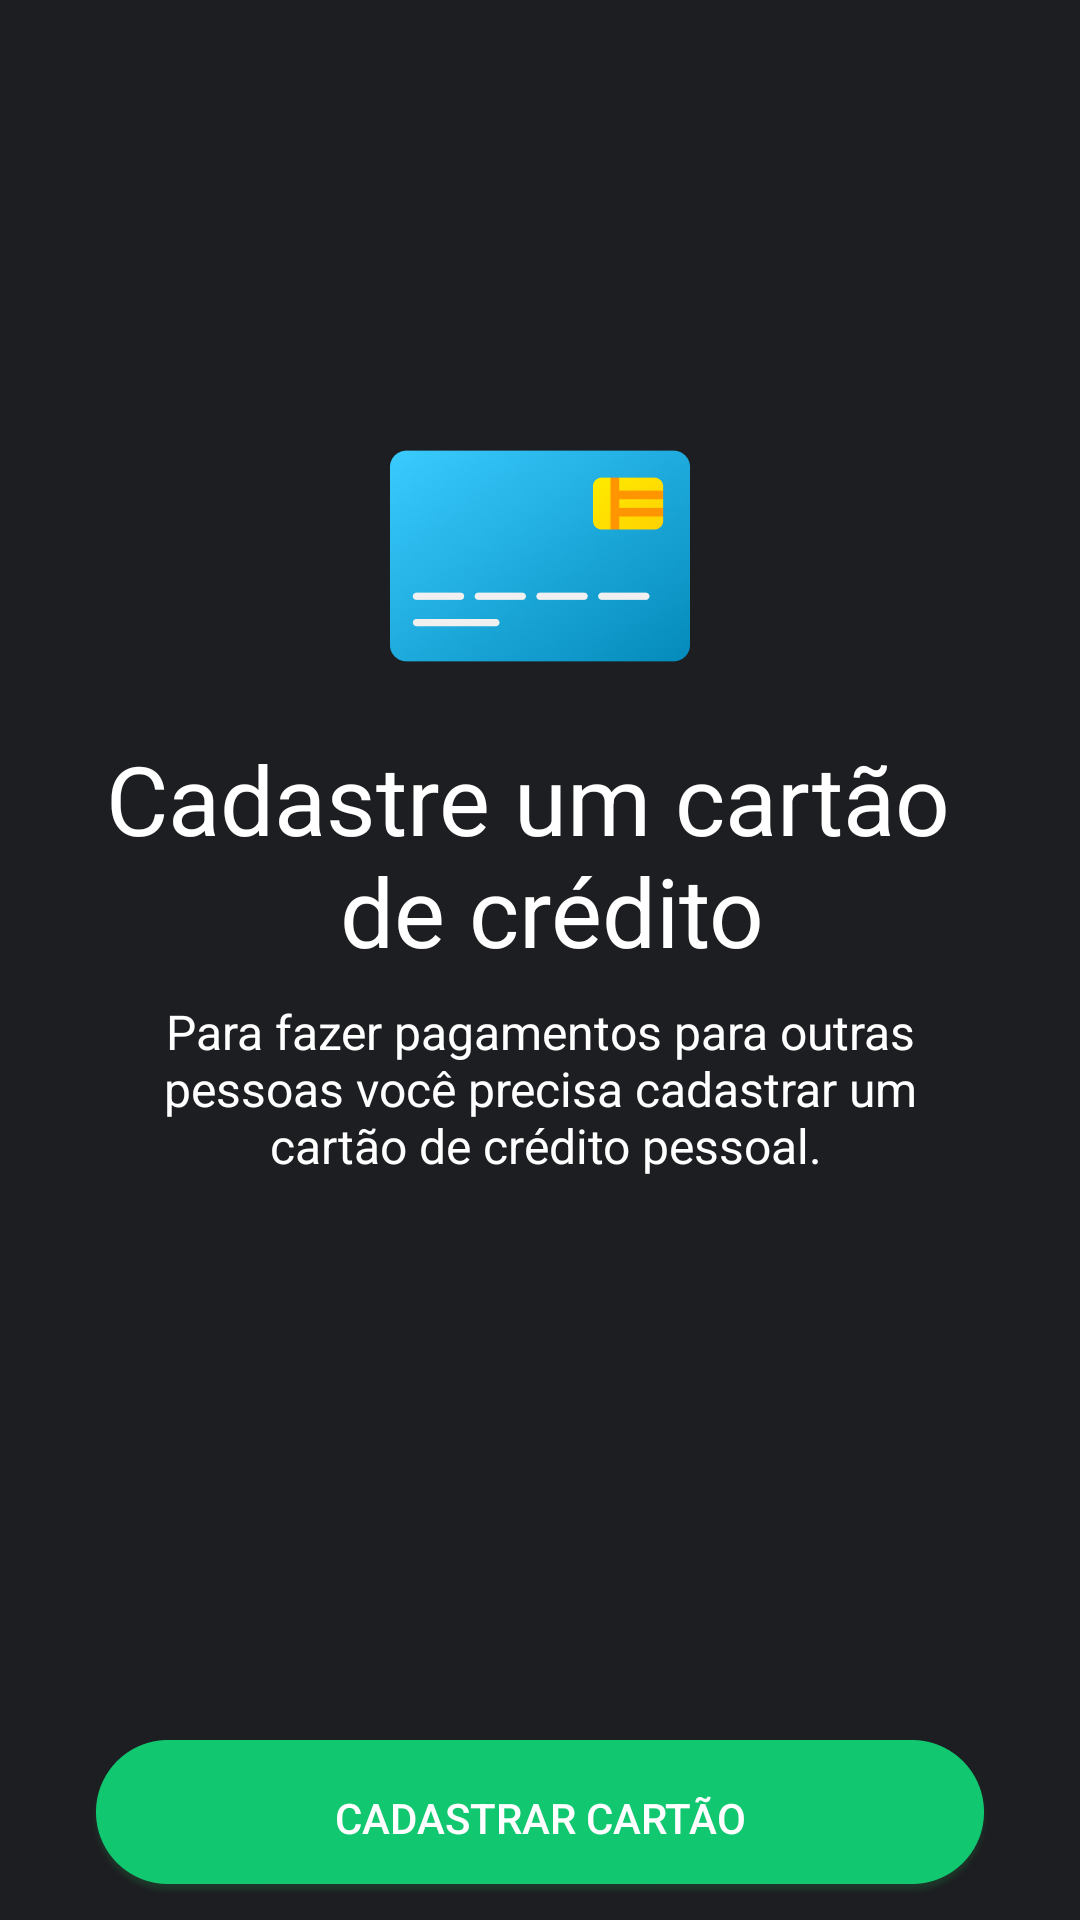

Screen size 1080px×1920px. Icon name, then its center in pixels as point (x, y):
credit card: point (540, 556)
